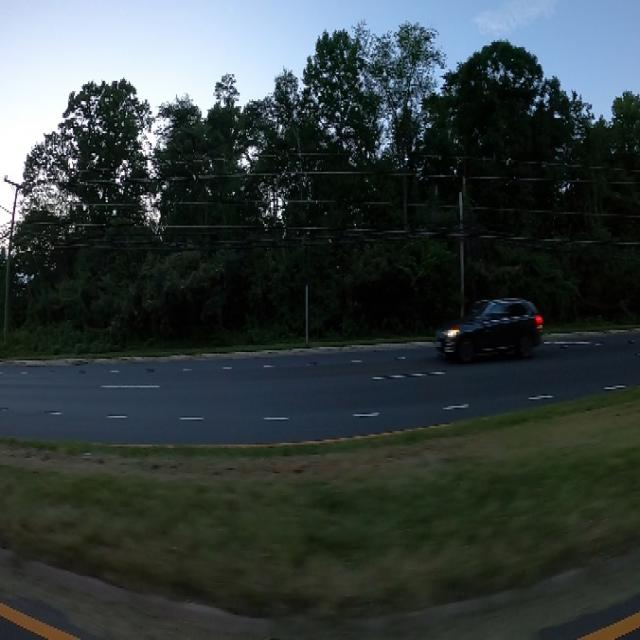cars: (436, 286, 546, 362)
